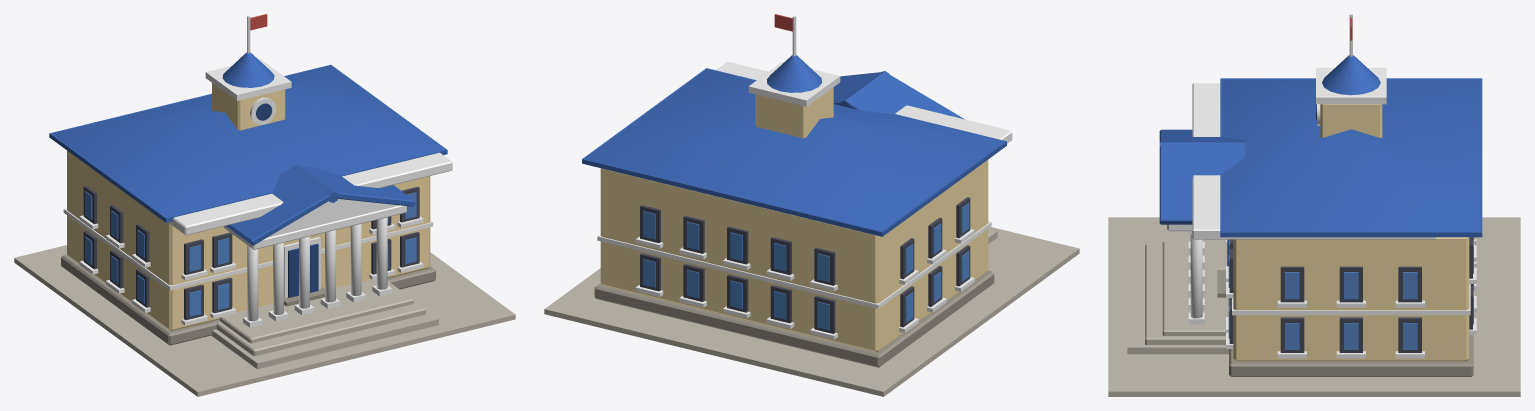
File: town-hall.glb
3 views of the same model, side by side, from view 1: azimuth 30°, elevation 25°; view 2: azimuth 150°, elevation 25°; view 3: azimuth 270°, elevation 25° (orthographic). The views are drawn at different scales.
Visible parts, largest first — view 1: model; view 2: model; view 3: model.
Part boxes in pixels (left/top/right/bottom): model: left=14, top=14, right=515, bottom=396; model: left=544, top=14, right=1079, bottom=396; model: left=1108, top=14, right=1520, bottom=396.
Bounding box in the file's own units: 2.8 × 2.21 × 2.8.
1 material, 1 textured.
